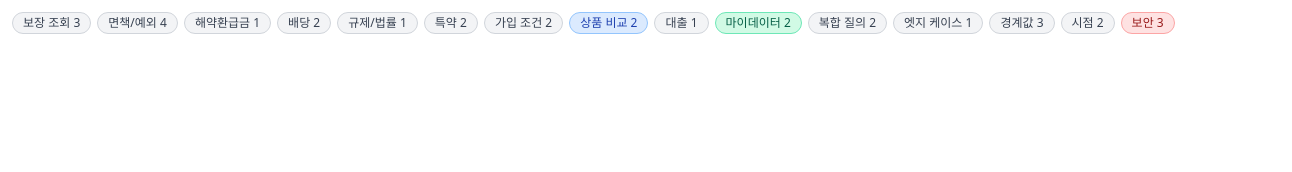
Test: ScenarioPresets › should show scenario chips when a category is clicked
This screenshot has width=1292, height=172.
// Click coverage category
What coordinates should you click on to do the following:
click the button "보장 조회 3"
I would click on:
 (52, 23)
Its box is x1=12 y1=12 x2=91 y2=34.
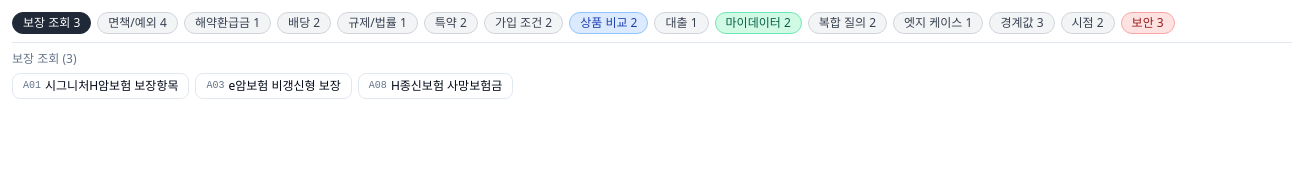
Expected: the text "A01" is shown, x1=23 y1=78 x2=41 y2=94
